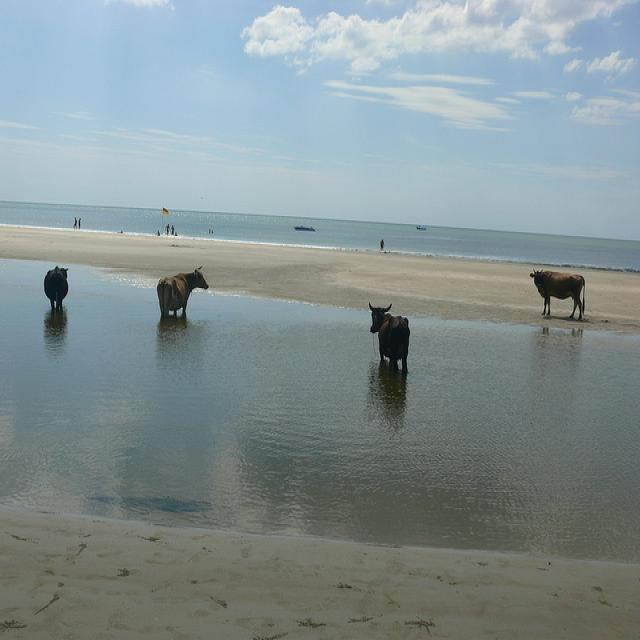cow: (367, 300, 409, 372), (532, 267, 586, 321), (155, 263, 207, 316), (42, 264, 66, 309)
